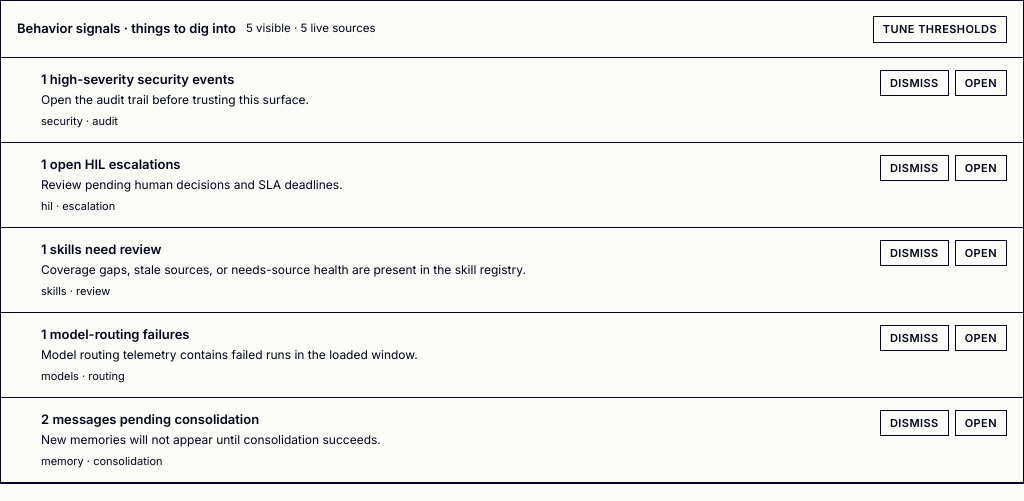
NOC actions › lets operators dismiss a behavior signal instead of rendering dead dismiss buttons
The width and height of the screenshot is (1024, 501).
expect the text "1 high-severity security events" is shown: met, box top-left (41, 70), bottom-right (234, 86)
What coordinates should you click on to do the following:
click the button "Dismiss" in the row of "1 high-severity security events"
I would click on:
 (914, 83)
Its box is top-left (880, 70), bottom-right (949, 96).
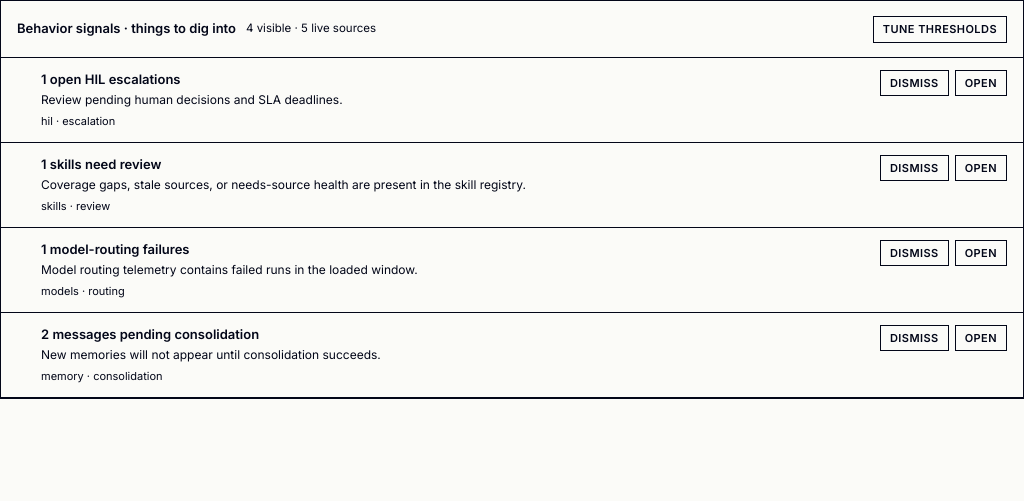
expect the text "high-severity security events" is gone: met
expect the text "4 visible · 5 live sources" is shown: met, box top-left (246, 20), bottom-right (376, 37)
